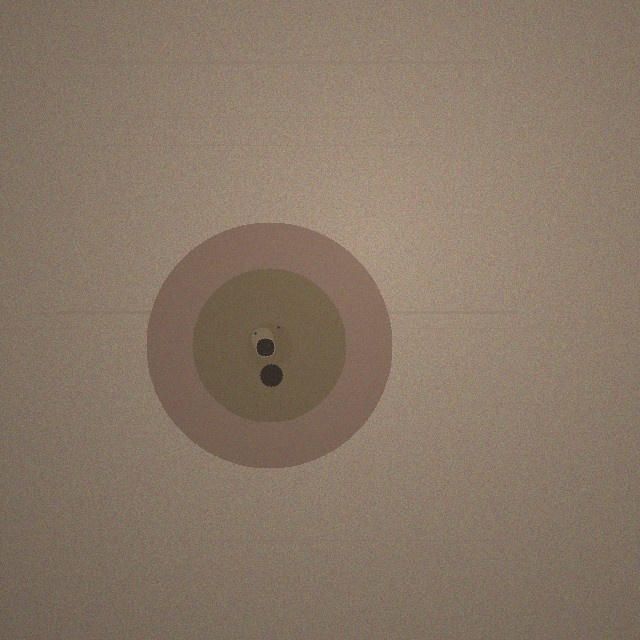shrinkage: (146, 222, 392, 468)
